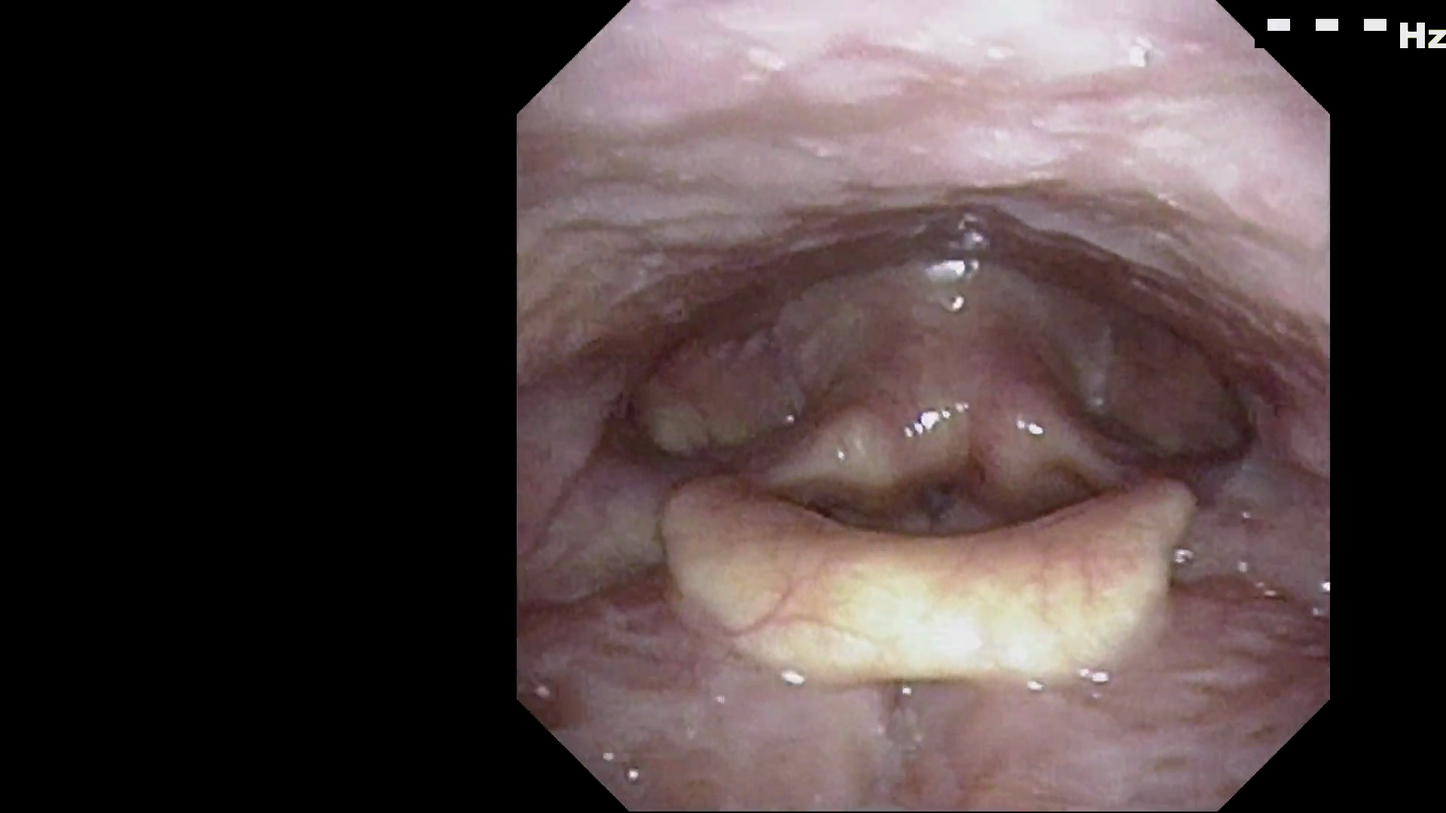epiglottis: (656, 450, 1205, 693)
trachea: (898, 455, 987, 563)
